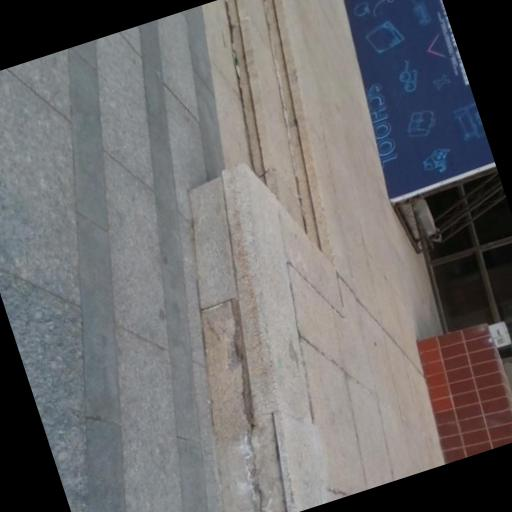stairs: (226, 0, 317, 237)
